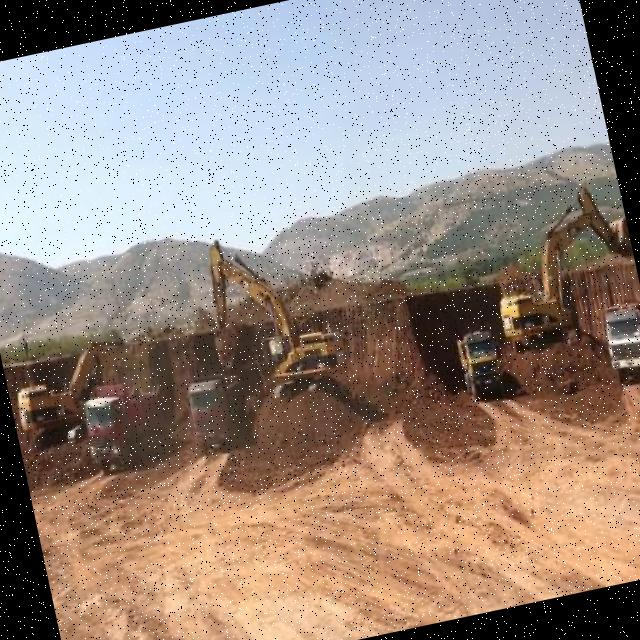Dump Truck: (81, 387, 174, 472), (180, 364, 250, 456), (596, 293, 640, 390), (452, 327, 502, 402)
Excavator: (188, 215, 351, 414), (473, 175, 640, 357), (2, 330, 164, 440)
